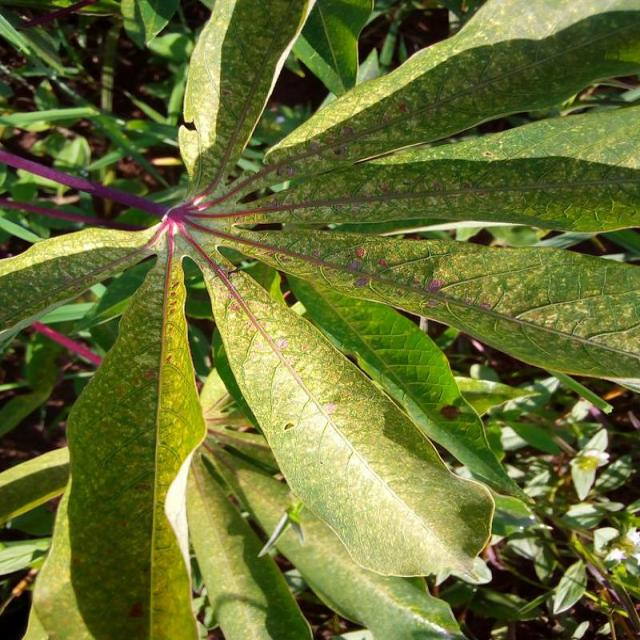cassava leaf: (0, 1, 638, 638), (198, 243, 497, 588), (26, 229, 207, 638)
